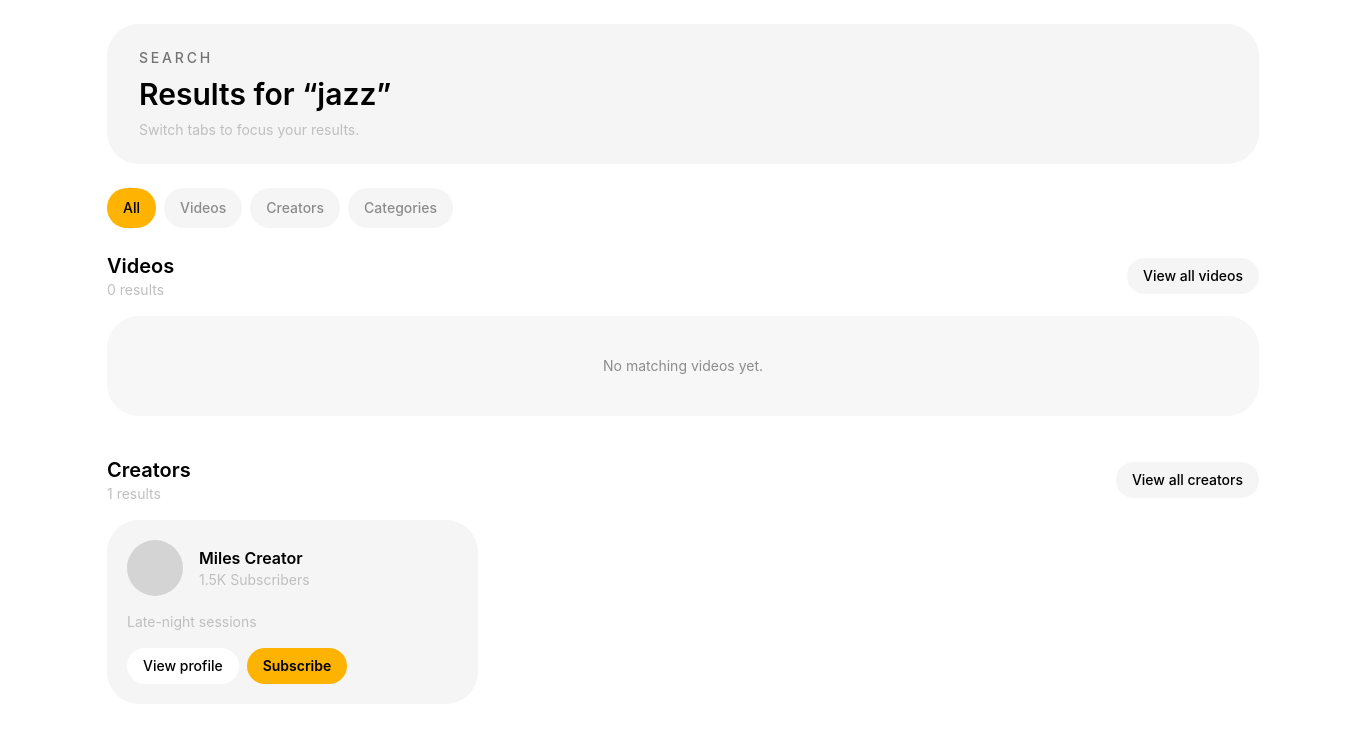
Test: SearchResults › links to public creator profiles and lets authenticated users subscribe
Click the button "Subscribe".
click(297, 666)  # box [247,648,347,684]
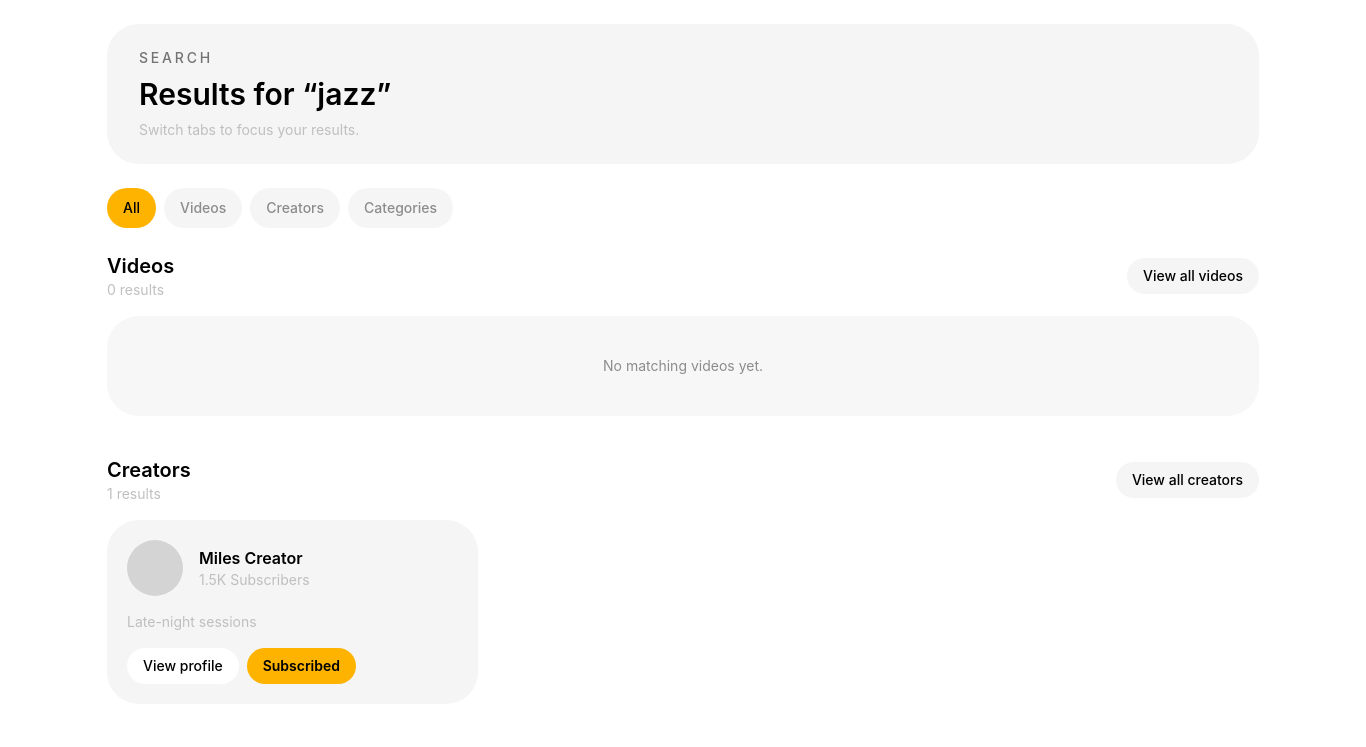
Check: the button "Subscribed" is shown, box [247,648,356,684]
